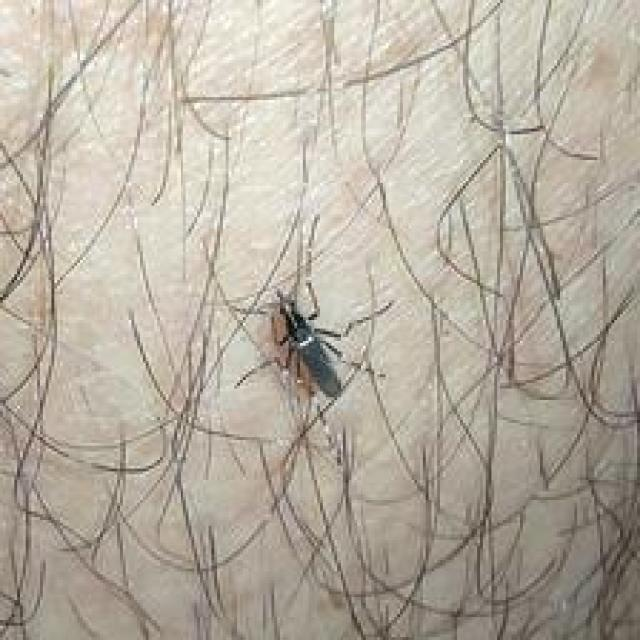Aedes albopictus: (270, 288, 347, 403)
